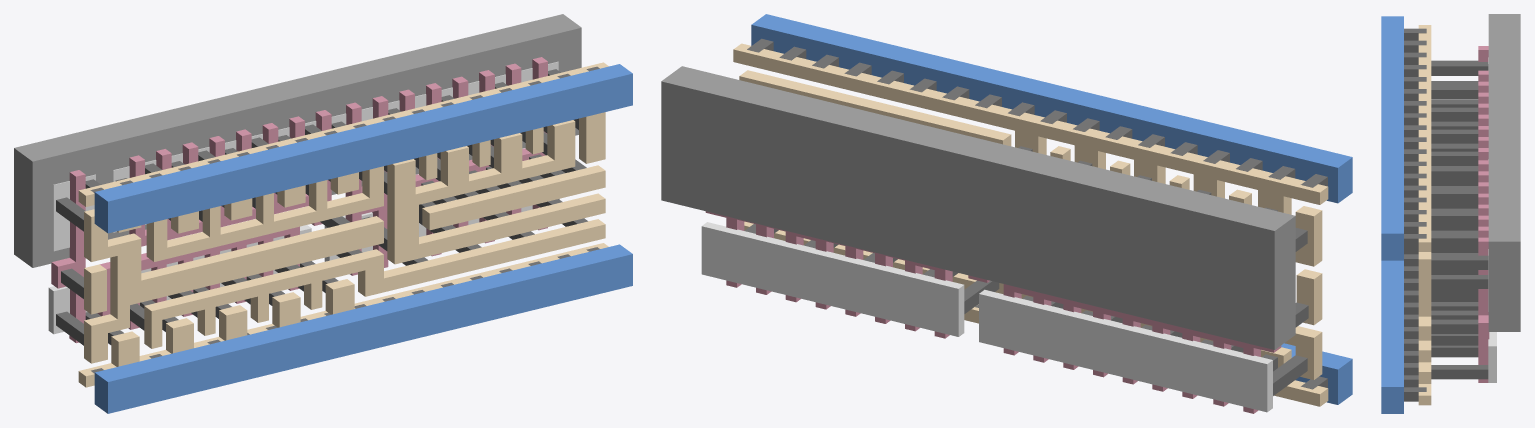
Rendered from sky130_fd_sc_hd__einvp_8.gds.gltf.
3 renders of one model, left to right at view 1: azimuth 30°, elevation 25°; view 2: azimuth 150°, elevation 25°; view 3: azimuth 270°, elevation 25°, orthographic. The views are drawn at different scales.
Parts seen in each view (by area): view 1: sky130_fd_sc_hd__einvp_8_li1, sky130_fd_sc_hd__einvp_8_met1, sky130_fd_sc_hd__einvp_8_nwell, sky130_fd_sc_hd__einvp_8_poly, sky130_fd_sc_hd__einvp_8_licon, sky130_fd_sc_hd__einvp_8_diff, sky130_fd_sc_hd__einvp_8_mcon; view 2: sky130_fd_sc_hd__einvp_8_nwell, sky130_fd_sc_hd__einvp_8_diff, sky130_fd_sc_hd__einvp_8_li1, sky130_fd_sc_hd__einvp_8_met1, sky130_fd_sc_hd__einvp_8_poly, sky130_fd_sc_hd__einvp_8_mcon, sky130_fd_sc_hd__einvp_8_licon; view 3: sky130_fd_sc_hd__einvp_8_licon, sky130_fd_sc_hd__einvp_8_nwell, sky130_fd_sc_hd__einvp_8_met1, sky130_fd_sc_hd__einvp_8_mcon, sky130_fd_sc_hd__einvp_8_li1, sky130_fd_sc_hd__einvp_8_poly, sky130_fd_sc_hd__einvp_8_diff.
Part boxes in pixels (x1=…): sky130_fd_sc_hd__einvp_8_li1: x1=78, y1=62, x2=608, y2=387; sky130_fd_sc_hd__einvp_8_met1: x1=94, y1=64, x2=632, y2=413; sky130_fd_sc_hd__einvp_8_nwell: x1=14, y1=14, x2=581, y2=267; sky130_fd_sc_hd__einvp_8_poly: x1=51, y1=57, x2=547, y2=343; sky130_fd_sc_hd__einvp_8_licon: x1=56, y1=69, x2=587, y2=345; sky130_fd_sc_hd__einvp_8_diff: x1=48, y1=61, x2=559, y2=334; sky130_fd_sc_hd__einvp_8_mcon: x1=90, y1=66, x2=599, y2=373; sky130_fd_sc_hd__einvp_8_nwell: x1=661, y1=66, x2=1295, y2=349; sky130_fd_sc_hd__einvp_8_diff: x1=701, y1=222, x2=1272, y2=412; sky130_fd_sc_hd__einvp_8_li1: x1=733, y1=43, x2=1328, y2=406; sky130_fd_sc_hd__einvp_8_met1: x1=751, y1=14, x2=1352, y2=404; sky130_fd_sc_hd__einvp_8_poly: x1=705, y1=211, x2=1281, y2=413; sky130_fd_sc_hd__einvp_8_mcon: x1=747, y1=38, x2=1327, y2=389; sky130_fd_sc_hd__einvp_8_licon: x1=744, y1=146, x2=1308, y2=395; sky130_fd_sc_hd__einvp_8_licon: x1=1431, y1=60, x2=1488, y2=379; sky130_fd_sc_hd__einvp_8_nwell: x1=1488, y1=14, x2=1520, y2=331; sky130_fd_sc_hd__einvp_8_met1: x1=1381, y1=16, x2=1403, y2=413; sky130_fd_sc_hd__einvp_8_mcon: x1=1404, y1=28, x2=1426, y2=401; sky130_fd_sc_hd__einvp_8_li1: x1=1418, y1=25, x2=1431, y2=405; sky130_fd_sc_hd__einvp_8_poly: x1=1478, y1=46, x2=1489, y2=382; sky130_fd_sc_hd__einvp_8_diff: x1=1488, y1=57, x2=1496, y2=382.
Size of the model in its own units: 8.66 by 3.2 by 2.24.
